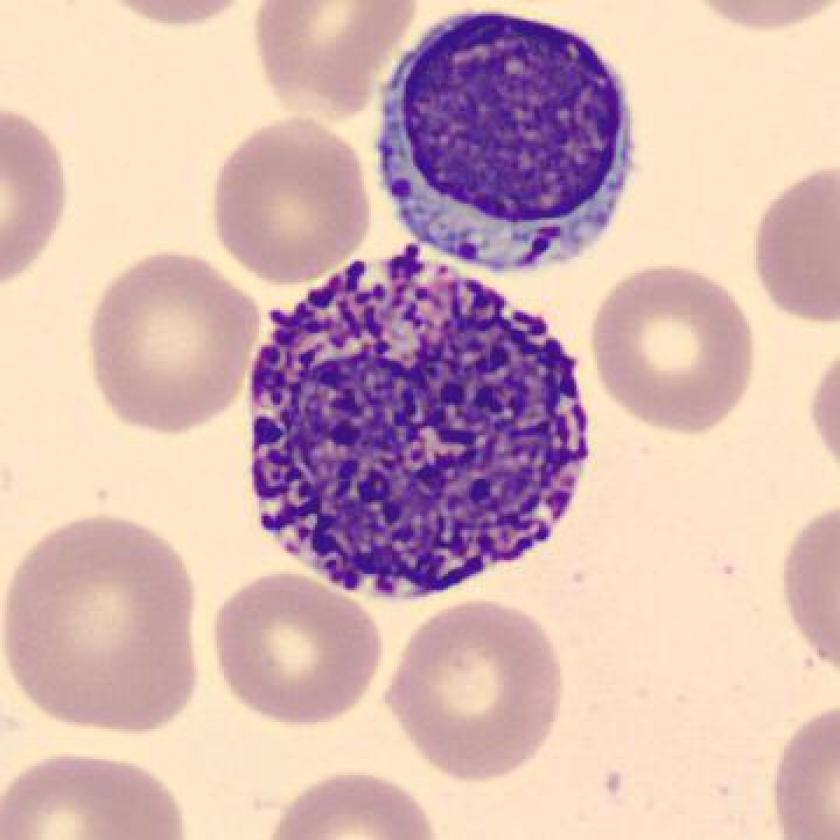basophil: (242, 239, 599, 605), (370, 8, 638, 269)
